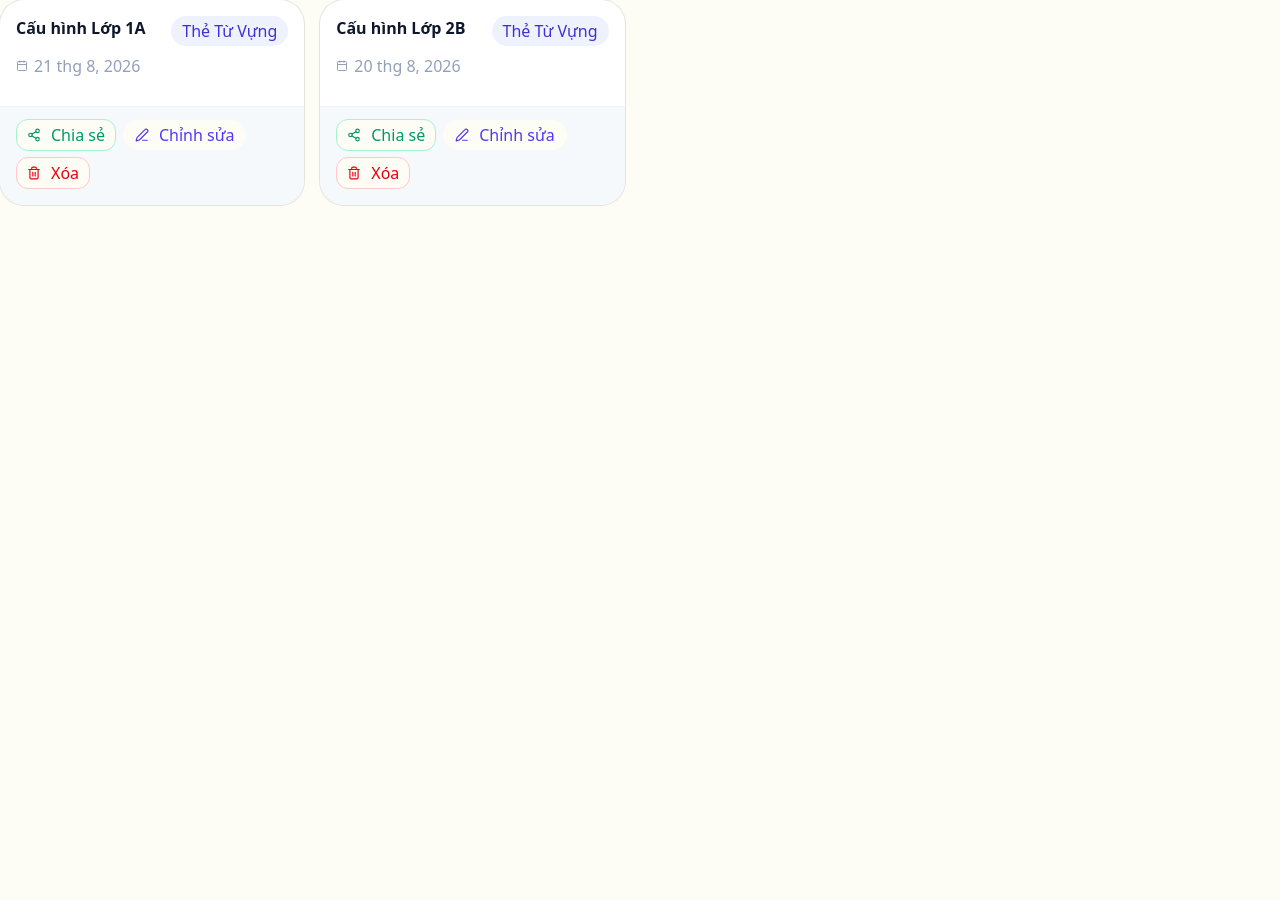
ConfigList Component › shows error banner when delete fails
The width and height of the screenshot is (1280, 900).
Click the 1st button "Xóa". click: (53, 173)
box: [16, 157, 90, 189]
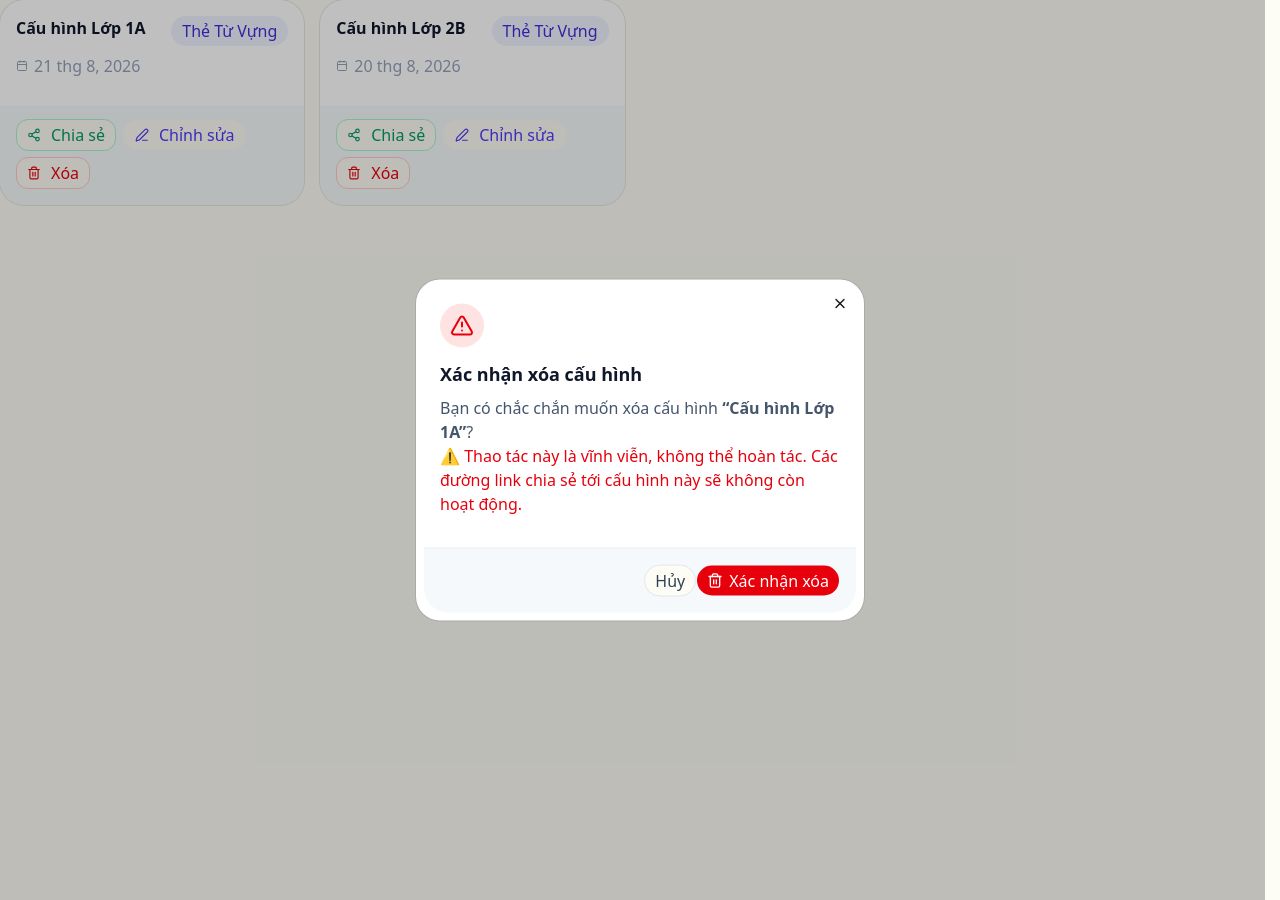
Click the button "Xác nhận xóa". click: (768, 580)
box: [696, 564, 840, 596]
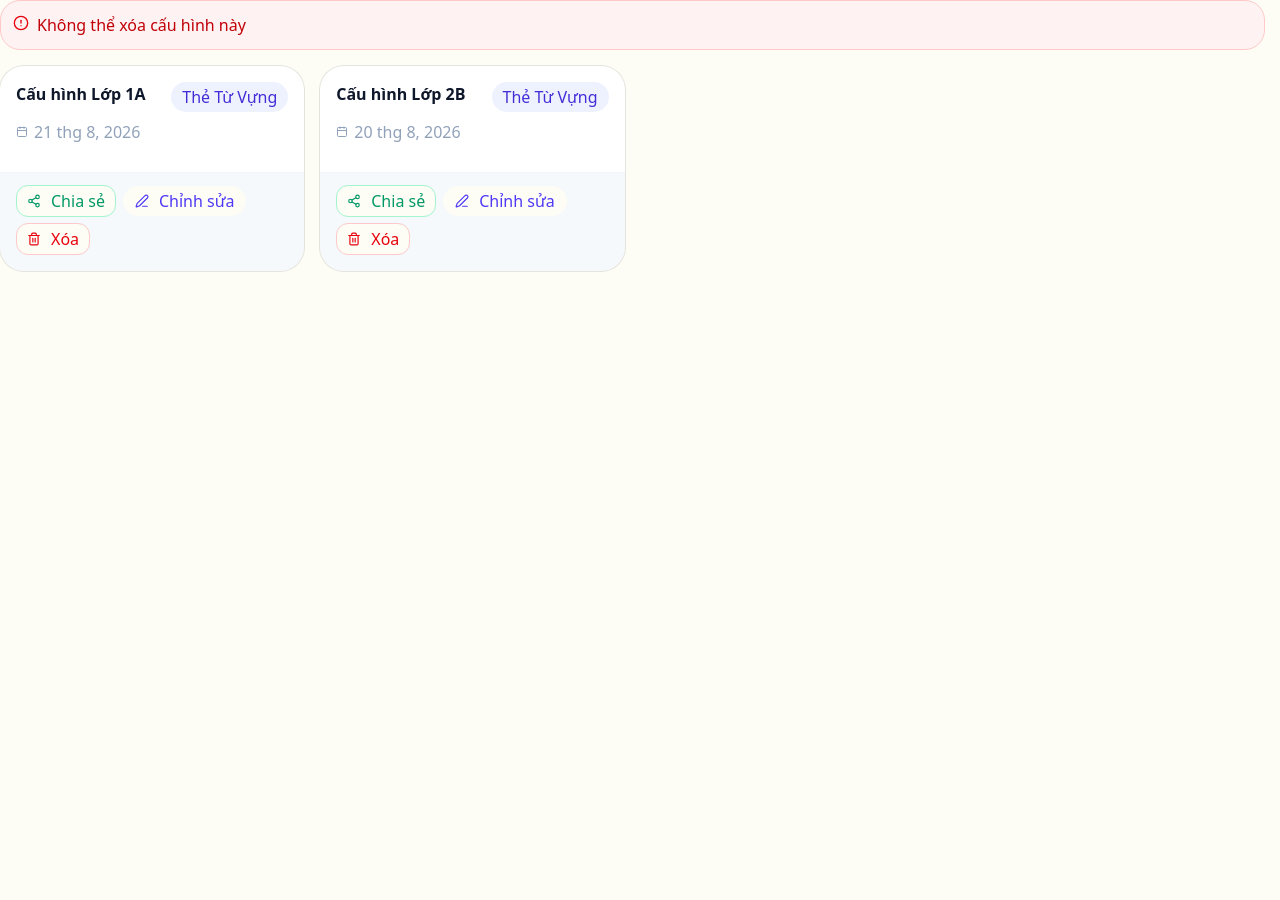
Now the message reads "Không thể xóa cấu hình này", box [37, 14, 246, 36]
